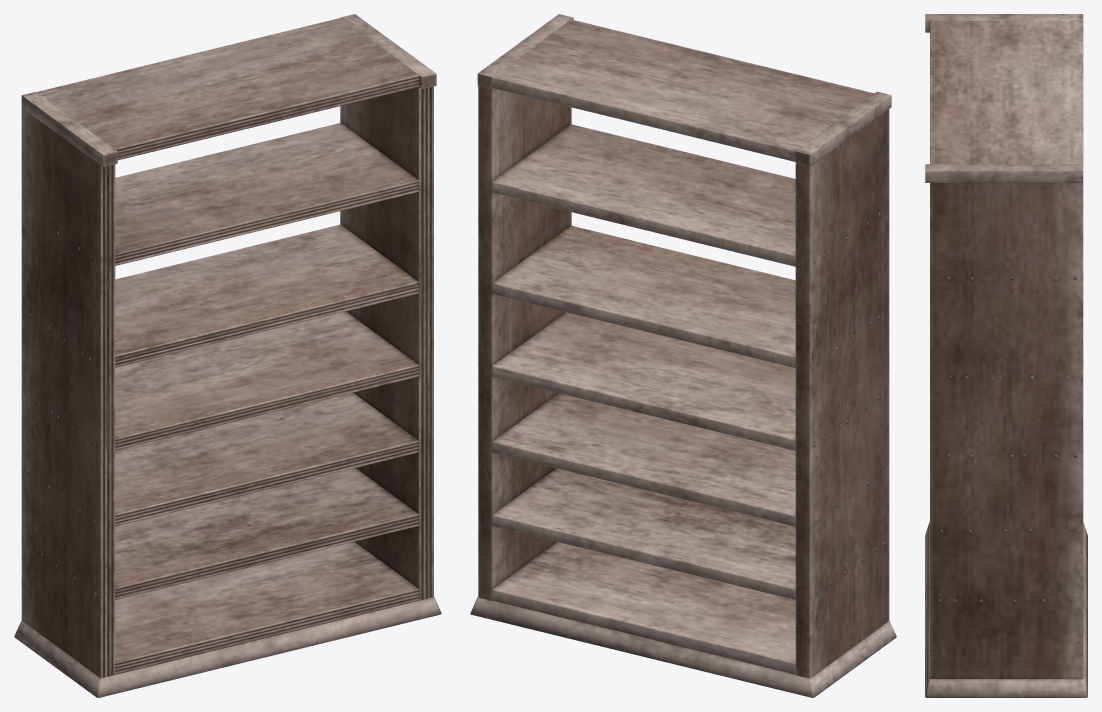
File: wooden_bookshelf_worn.glb
The picture shows the model from 3 angles, left to right: view 1: azimuth 30°, elevation 25°; view 2: azimuth 150°, elevation 25°; view 3: azimuth 270°, elevation 25°; orthographic projection. The views are drawn at different scales.
Visible parts, largest first — view 1: wooden_bookshelf_worn; view 2: wooden_bookshelf_worn; view 3: wooden_bookshelf_worn.
Part boxes in pixels (box(x1,y1,x2,y2)): wooden_bookshelf_worn: box(14, 14, 441, 697); wooden_bookshelf_worn: box(470, 14, 896, 697); wooden_bookshelf_worn: box(925, 14, 1087, 697).
Size of the model in its own units: 1.37 by 2.06 by 0.5813.
Materials: 1 (1 with a texture image).
